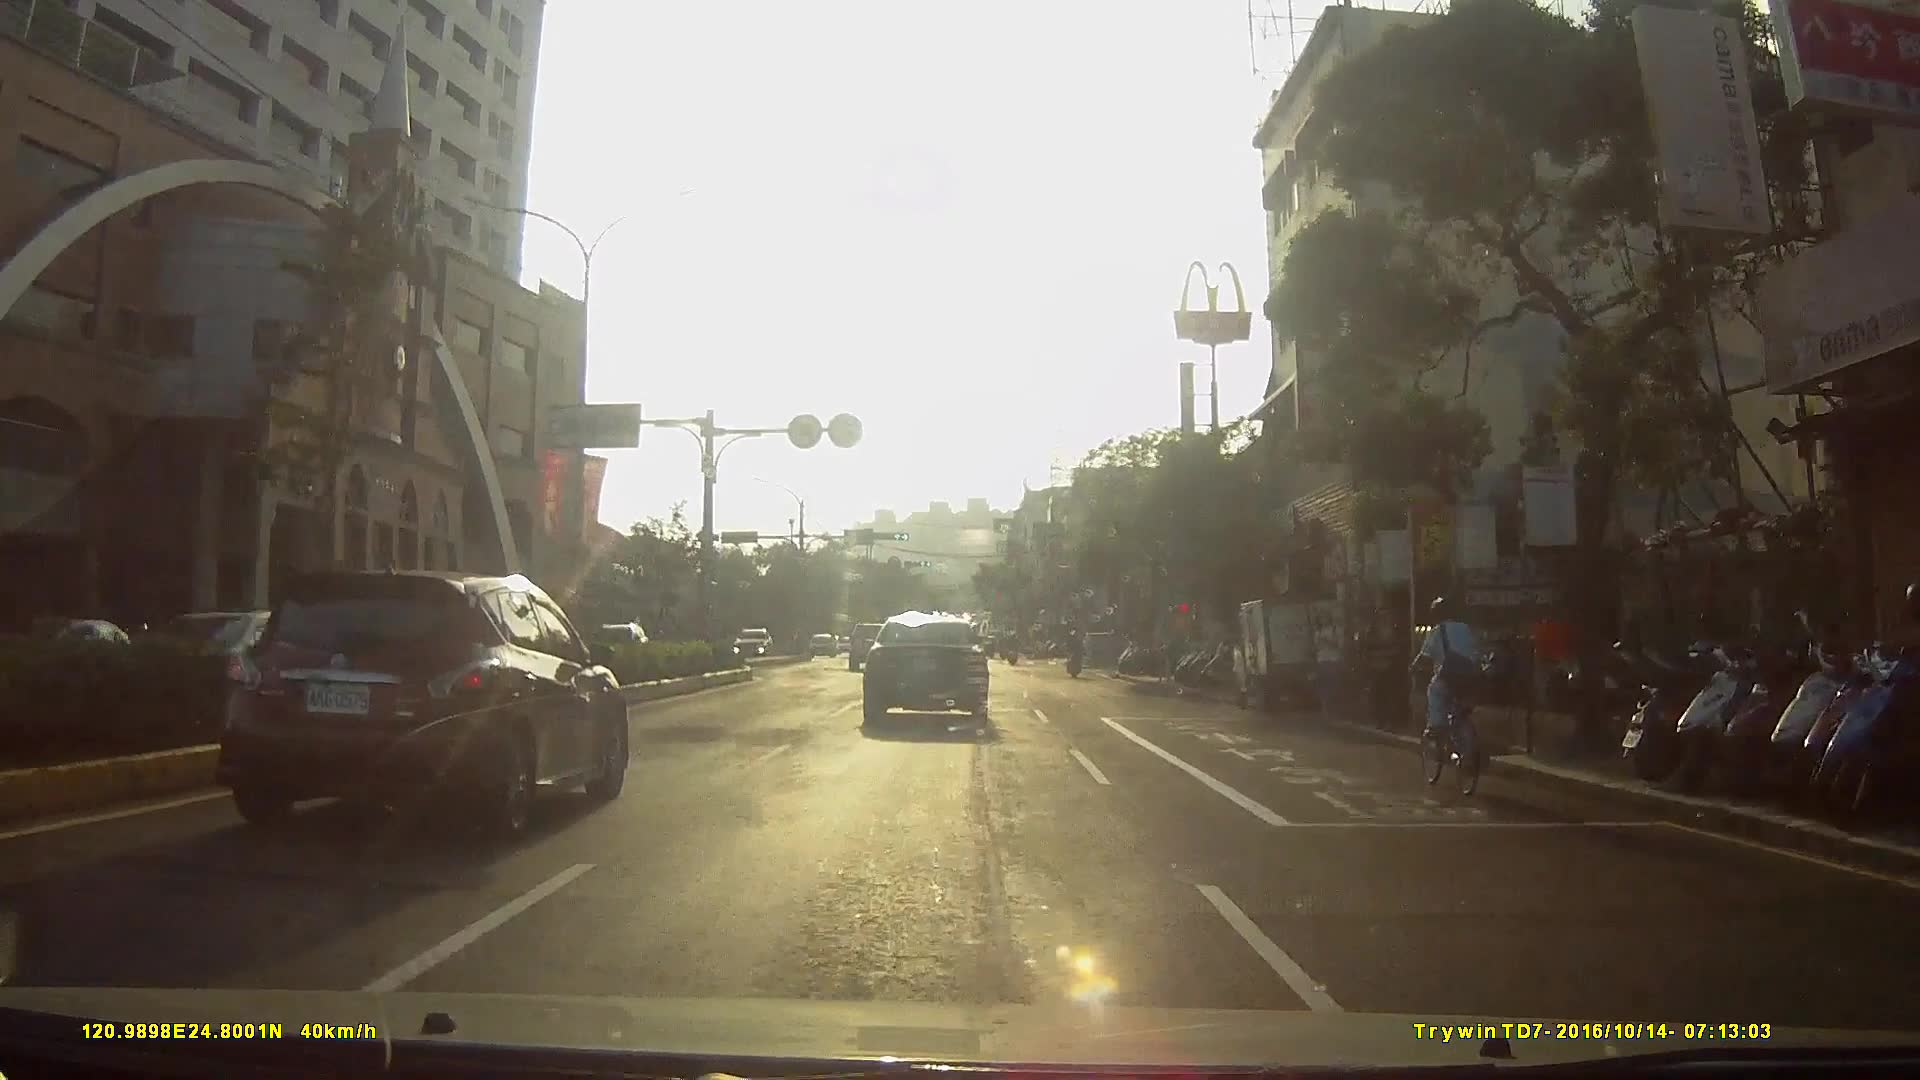pedestrian: (1309, 603, 1346, 721)
rider: (1400, 597, 1491, 802), (1065, 627, 1091, 684)
vehicle: (202, 564, 640, 836), (861, 610, 1007, 737), (1241, 592, 1379, 717), (845, 621, 904, 676), (727, 625, 776, 661), (801, 629, 832, 659)
